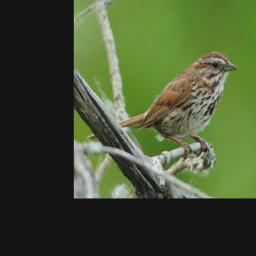Sparrow: (86, 50, 240, 161)
